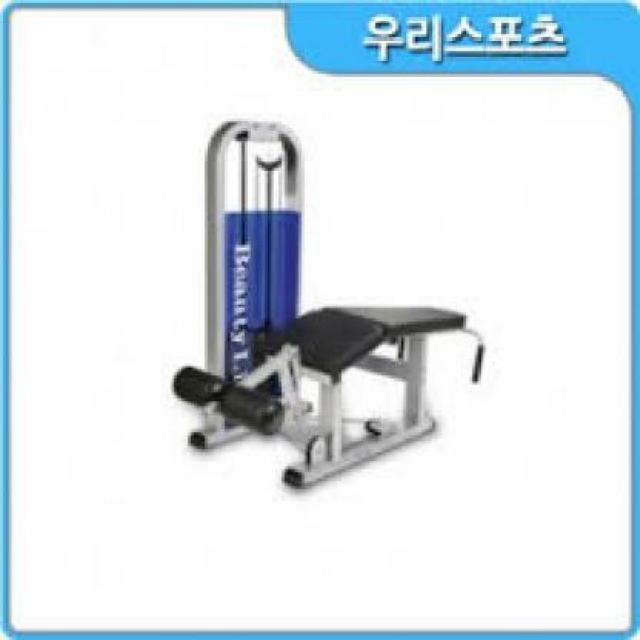reg curl machine: (169, 105, 491, 492)
